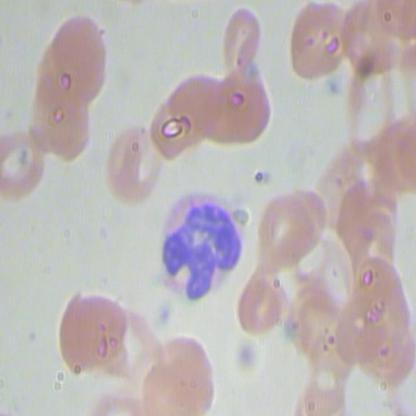Platelets: (235, 337, 263, 371), (151, 295, 179, 328)
RBC: (146, 66, 229, 166), (280, 1, 360, 88), (21, 77, 99, 164), (34, 13, 112, 100), (51, 289, 128, 377), (193, 68, 274, 150), (140, 329, 217, 415), (341, 61, 402, 153), (352, 250, 410, 346), (103, 121, 168, 203), (231, 263, 291, 341), (255, 186, 315, 264), (1, 119, 47, 210), (291, 352, 354, 415), (218, 1, 264, 81), (376, 114, 415, 205)
WBC: (153, 183, 246, 306)
